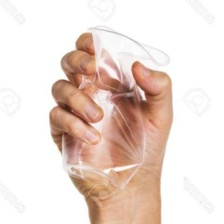glass: (57, 19, 181, 196)
